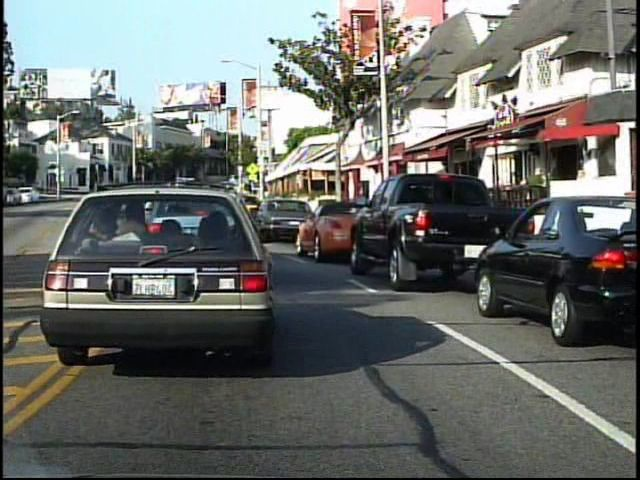person: (523, 162, 551, 227)
